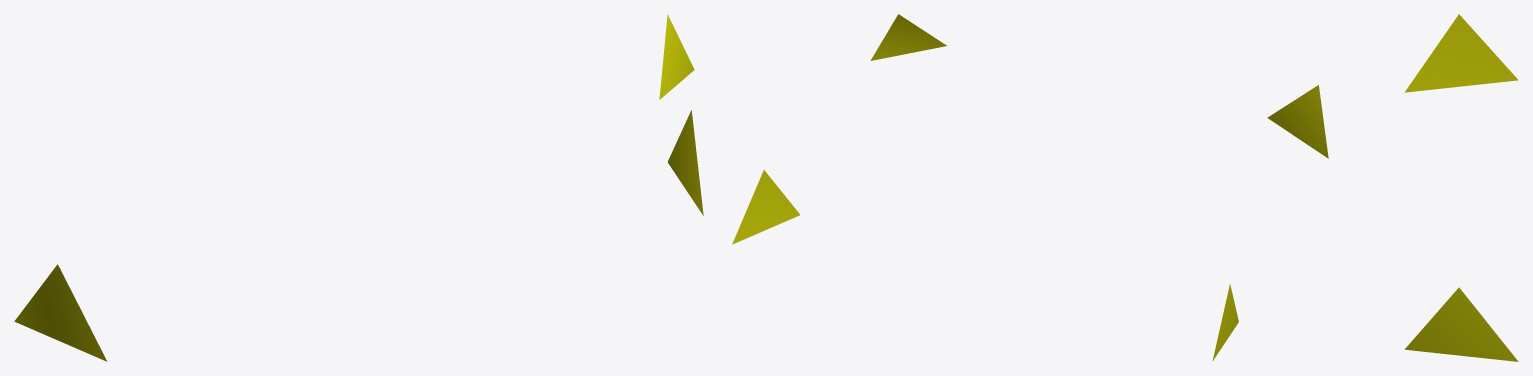
Rendered from Forehead2_98.glb.
The picture shows the model from 3 angles, left to right: view 1: azimuth 30°, elevation 25°; view 2: azimuth 150°, elevation 25°; view 3: azimuth 270°, elevation 25°; orthographic projection. The views are drawn at different scales.
Bounding box in the file's own units: 52.6 × 19.9 × 19.86.
